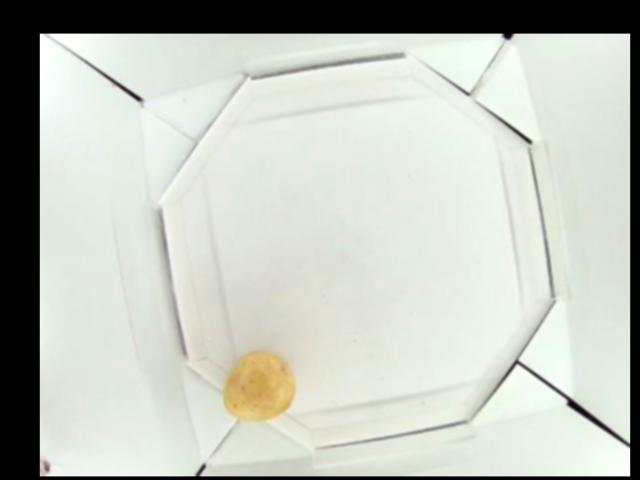Potato: (219, 351, 291, 425)
